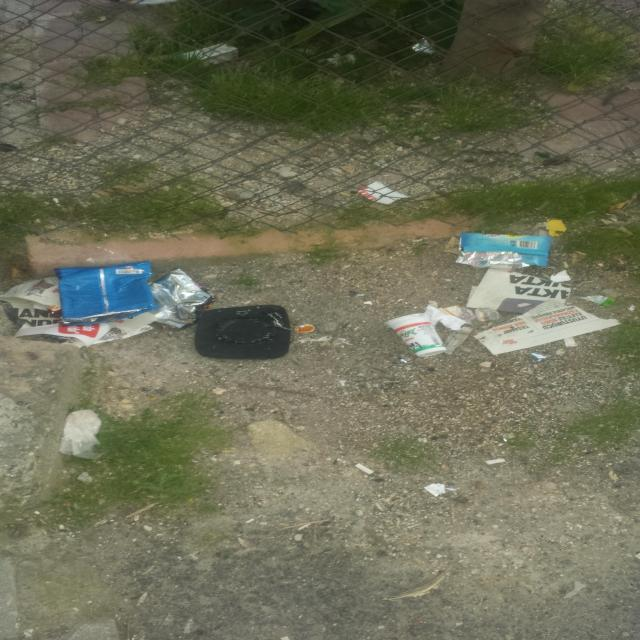litter: (466, 268, 622, 355), (0, 277, 158, 348), (54, 261, 157, 327), (194, 304, 291, 360), (148, 269, 217, 329), (454, 233, 551, 271), (384, 313, 447, 357), (58, 409, 102, 459), (179, 43, 239, 68), (426, 305, 476, 330), (357, 181, 408, 205), (413, 37, 435, 54), (579, 296, 615, 306), (423, 484, 445, 497), (550, 270, 571, 282), (354, 463, 374, 475), (294, 324, 315, 333), (527, 353, 547, 362), (484, 458, 507, 464), (564, 337, 578, 346), (399, 358, 407, 363)
